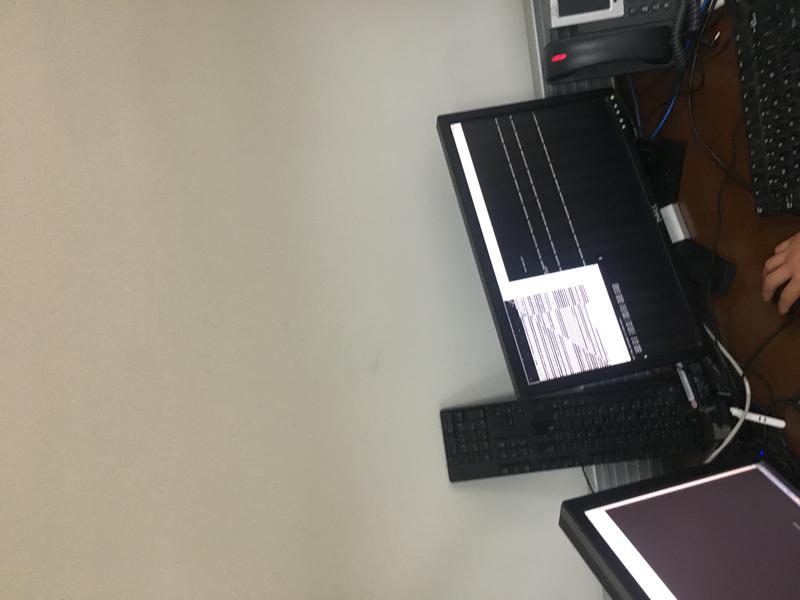xrandr_pass: (489, 255, 631, 390)
